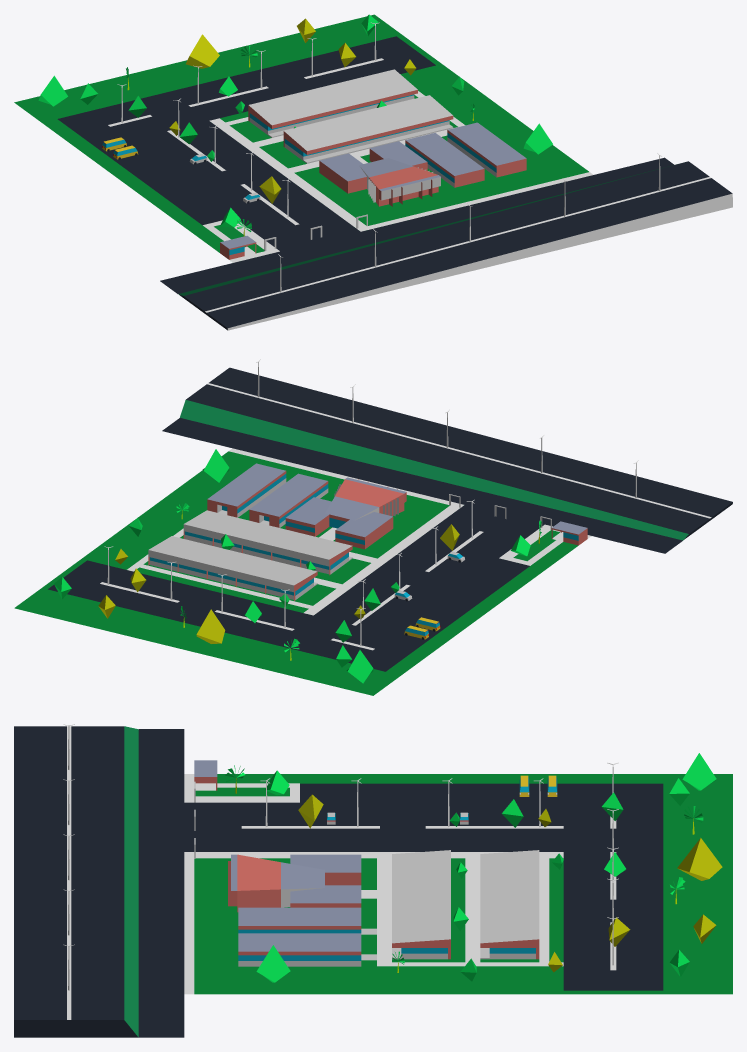
File: cmsr.glb
3 views of the same model, one above another, from view 1: azimuth 30°, elevation 25°; view 2: azimuth 150°, elevation 25°; view 3: azimuth 270°, elevation 25° (orthographic). The views are drawn at different scales.
Parts seen in each view (by area): view 1: cmsrroabr, cmsrmetre.000_greenbase, cmsrmeroa, cmsrmebui.003, cmsrmeroa.001, cmsrmeroa.002, cmsrmebui.001, cmsrmebui, cmsrmebui.002, cmsrmepav, cmsrmepav.010, cmsrmetre.010 (+1 smaller); view 2: cmsrroabr, cmsrmetre.000_greenbase, cmsrmeroa, cmsrmeroa.001, cmsrmebui.003, cmsrmeroa.002, cmsrmebui.001, cmsrmebui.002, cmsrmebui, cmsrmepav, cmsrmepav.010, cmsrmepav.005 (+2 smaller); view 3: cmsrroabr, cmsrmetre.000_greenbase, cmsrmeroa, cmsrmeroa.001, cmsrmeroa.002, cmsrmebui.003, cmsrmebui.001, cmsrmebui, cmsrmebui.002, cmsrmepav.004, cmsrmepav.001, cmsrmepav.010 (+8 smaller).
Boxes of the visible parts, x1,y1,x2,y2 form: cmsrroabr: (178, 161, 732, 330); cmsrmetre.000_greenbase: (14, 14, 588, 253); cmsrmeroa: (97, 121, 360, 251); cmsrmebui.003: (248, 69, 453, 163); cmsrmeroa.001: (57, 36, 435, 147); cmsrmeroa.002: (160, 157, 674, 293); cmsrmebui.001: (405, 122, 526, 187); cmsrmebui: (355, 157, 440, 206); cmsrmebui.002: (319, 141, 427, 193); cmsrmepav: (209, 118, 366, 228); cmsrmepav.010: (357, 172, 593, 231); cmsrmetre.010: (186, 34, 219, 68); cmsrroabr: (180, 367, 732, 540); cmsrmetre.000_greenbase: (14, 451, 578, 695); cmsrmeroa: (314, 505, 544, 642); cmsrmeroa.001: (48, 560, 424, 671); cmsrmebui.003: (148, 510, 352, 600); cmsrmeroa.002: (162, 418, 682, 553); cmsrmebui.001: (207, 463, 328, 527); cmsrmebui.002: (285, 497, 393, 549); cmsrmebui: (319, 477, 406, 540); cmsrmepav: (304, 505, 459, 615); cmsrmepav.010: (229, 448, 463, 507); cmsrmepav.005: (139, 564, 312, 608); cmsrroabr: (14, 726, 138, 1037); cmsrmetre.000_greenbase: (194, 774, 732, 994); cmsrmeroa: (184, 783, 563, 851); cmsrmeroa.001: (563, 783, 663, 990); cmsrmeroa.002: (138, 729, 184, 1037); cmsrmebui.003: (392, 850, 539, 959); cmsrmebui.001: (238, 907, 376, 966); cmsrmebui: (228, 854, 376, 912); cmsrmebui.002: (290, 854, 361, 907); cmsrmepav.004: (465, 858, 480, 962); cmsrmepav.001: (377, 858, 391, 962); cmsrmepav.010: (184, 852, 194, 994).
Bounding box in the file's own units: 2.51 × 0.234 × 2.47.
